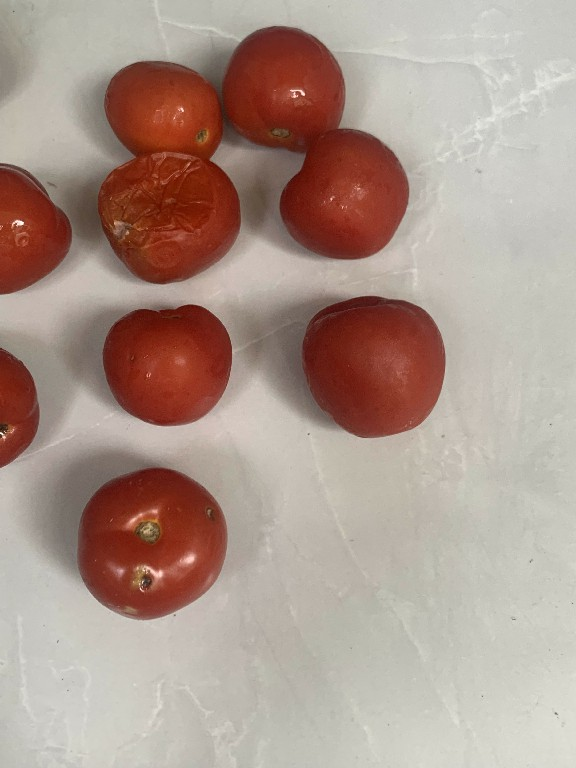NG: (65, 455, 232, 630), (79, 145, 250, 288)
OK: (294, 290, 449, 442), (87, 297, 238, 440), (273, 121, 418, 268), (215, 20, 346, 159), (95, 53, 233, 175)
